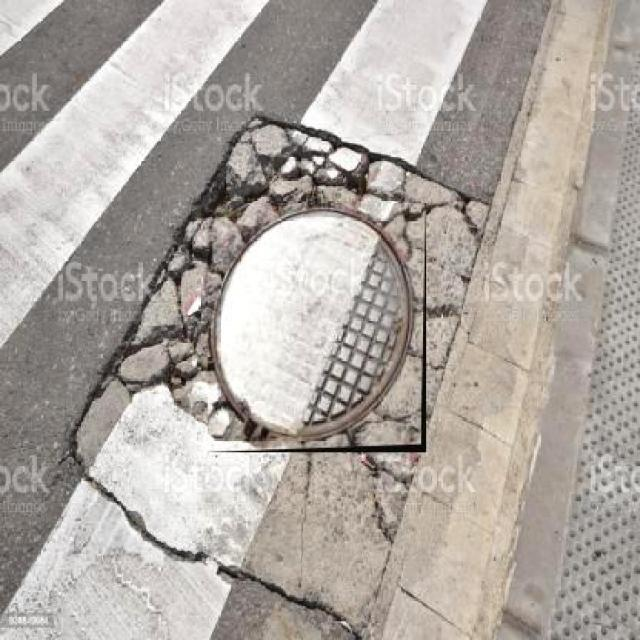Manhole: (208, 203, 426, 452)
Pothole: (188, 116, 402, 219), (118, 226, 206, 458)
